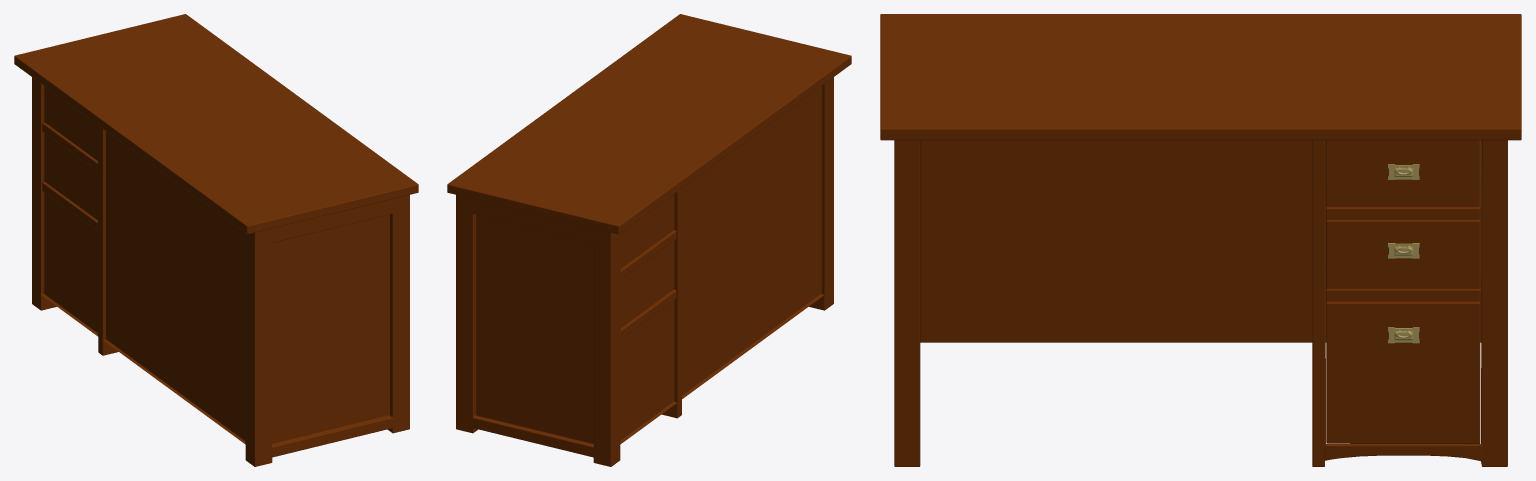
File: table.fbx
The picture shows the model from 3 angles, left to right: view 1: azimuth 30°, elevation 25°; view 2: azimuth 150°, elevation 25°; view 3: azimuth 270°, elevation 25°; orthographic projection. The views are drawn at different scales.
Parts seen in each view (by area): view 1: Desk; view 2: Desk; view 3: Desk.
Part boxes in pixels (x1,y1,x2,y2): Desk: [14, 14, 418, 466]; Desk: [447, 14, 851, 466]; Desk: [880, 14, 1521, 466].
Size of what is drawn, in the model's own units: 53.32 by 73.47 by 125.
